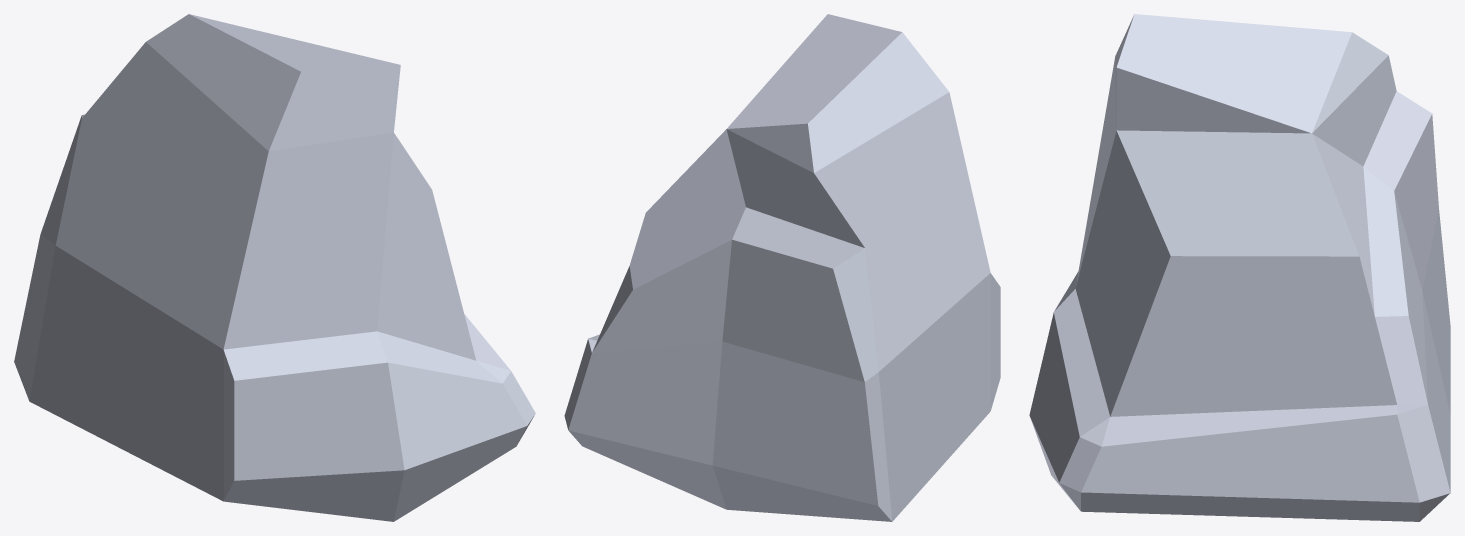
The model's file is rock_2.glb.
3 views of the same model, side by side, from view 1: azimuth 30°, elevation 25°; view 2: azimuth 150°, elevation 25°; view 3: azimuth 270°, elevation 25° (orthographic). The views are drawn at different scales.
Parts seen in each view (by area): view 1: Rock_2; view 2: Rock_2; view 3: Rock_2.
Boxes of the visible parts, <box> form: Rock_2: <box>14,14,535,521</box>; Rock_2: <box>564,14,1000,521</box>; Rock_2: <box>1029,14,1450,521</box>.
Size of the model in its own units: 0.5614 by 0.6456 by 0.5651.
